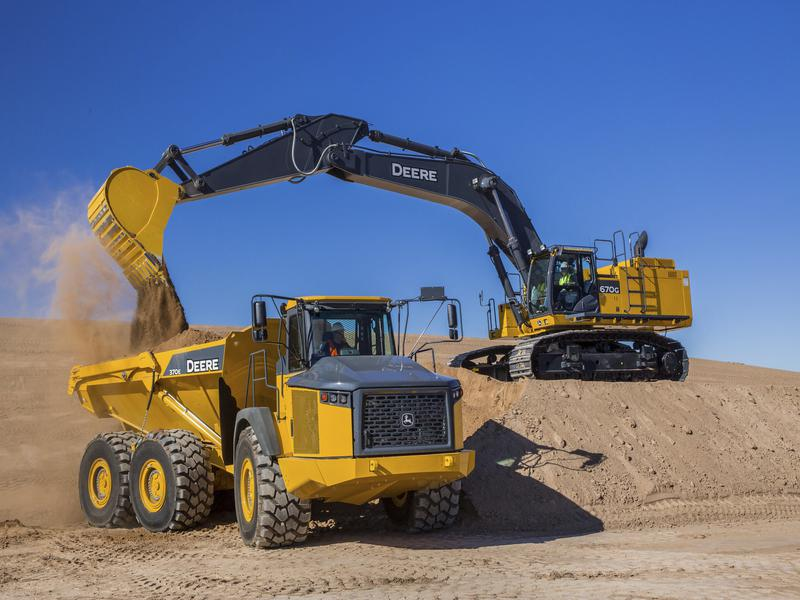shovel: (85, 105, 711, 376)
